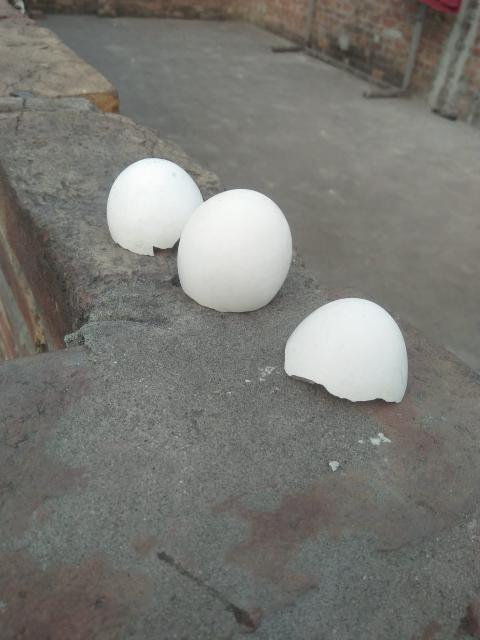Roto: (176, 187, 293, 313), (283, 296, 408, 403), (106, 156, 204, 256)
